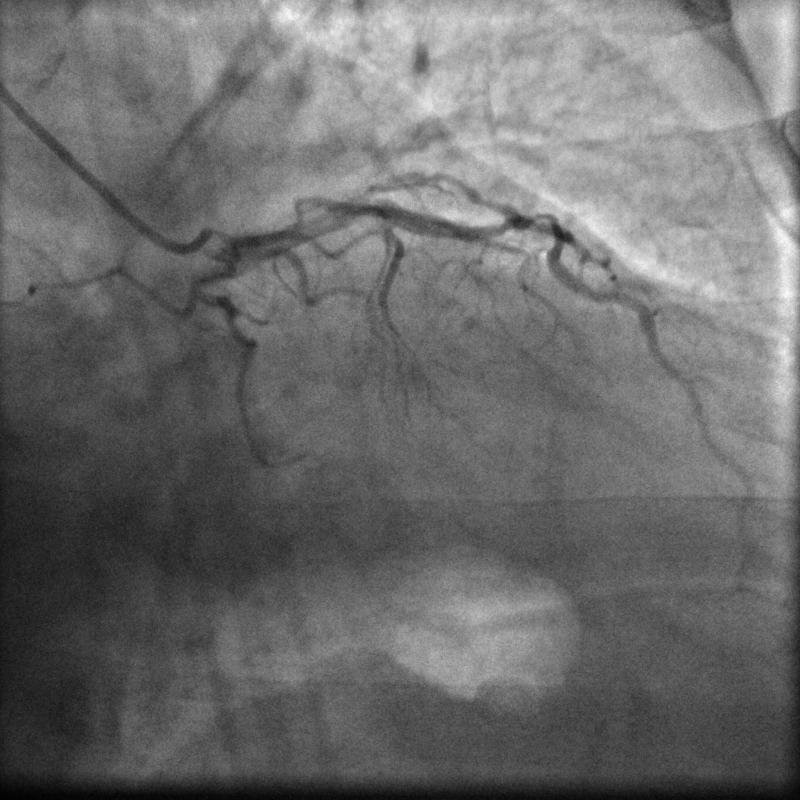Stenosis: (495, 211, 562, 244)
